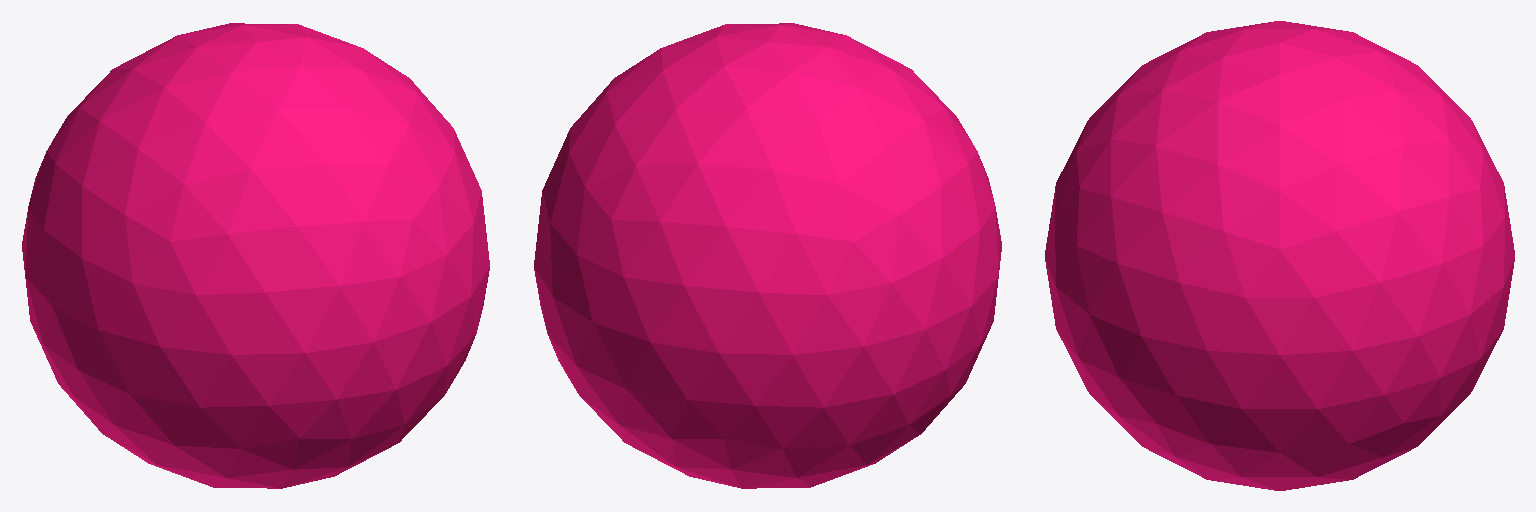
3 renders of one model, left to right at view 1: azimuth 30°, elevation 25°; view 2: azimuth 150°, elevation 25°; view 3: azimuth 270°, elevation 25°, orthographic.
Parts seen in each view (by area): view 1: ICO球; view 2: ICO球; view 3: ICO球.
Part boxes in pixels (x1,y1,x2,y2): ICO球: (22, 23, 489, 488); ICO球: (534, 23, 1001, 488); ICO球: (1045, 21, 1514, 490).
Bounding box in the file's own units: 10 × 10 × 10.